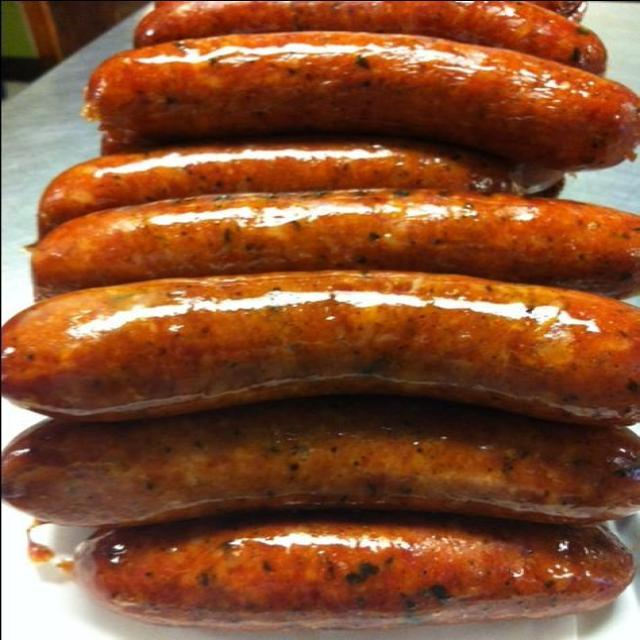sausage: (3, 271, 639, 425), (3, 396, 639, 525), (84, 33, 639, 170), (32, 189, 639, 297), (75, 513, 633, 630), (38, 138, 561, 237), (134, 0, 606, 73), (531, 0, 587, 21), (531, 0, 587, 19)
